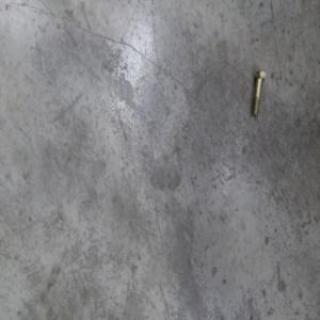Bolttrack_idkeyframe: (248, 65, 262, 113)
